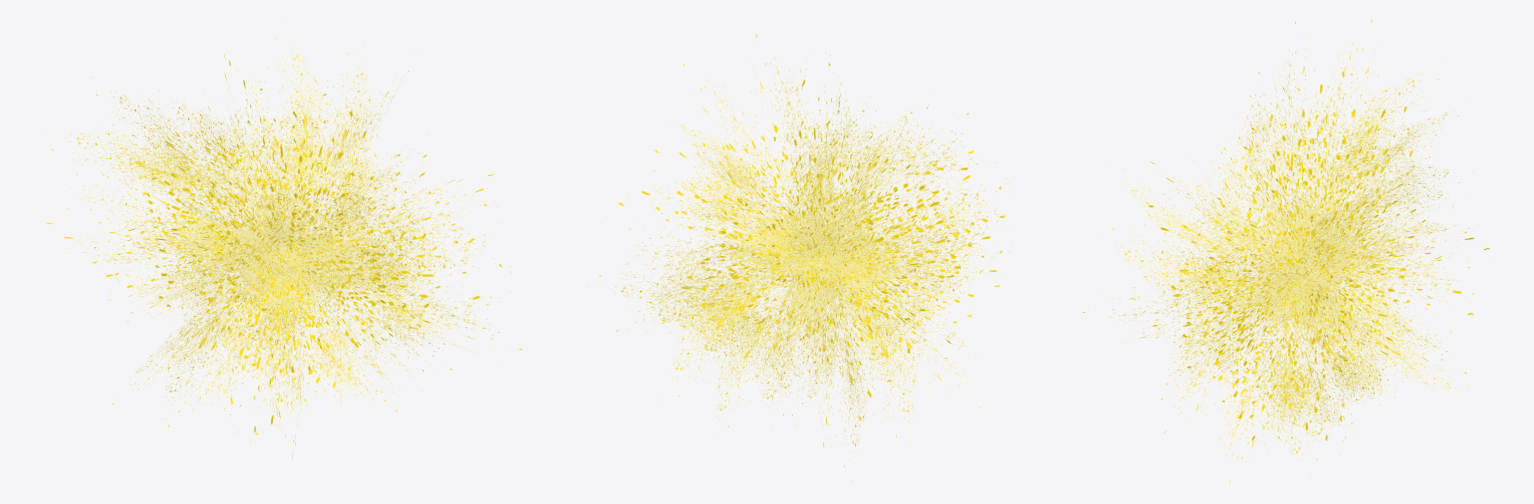
The model's file is meteor-explosion.glb.
3 views of the same model, side by side, from view 1: azimuth 30°, elevation 25°; view 2: azimuth 150°, elevation 25°; view 3: azimuth 270°, elevation 25° (orthographic). The views are drawn at different scales.
Visible parts, largest first — view 1: Plane 1_0; view 2: Plane 1_0; view 3: Plane 1_0.
Boxes of the visible parts, x1,y1,x2,y2 form: Plane 1_0: [41, 22, 521, 458]; Plane 1_0: [586, 34, 1013, 480]; Plane 1_0: [1083, 20, 1489, 482].
Size of the model in its own units: 1 by 0.9127 by 0.8711.
1 material, 1 textured.
